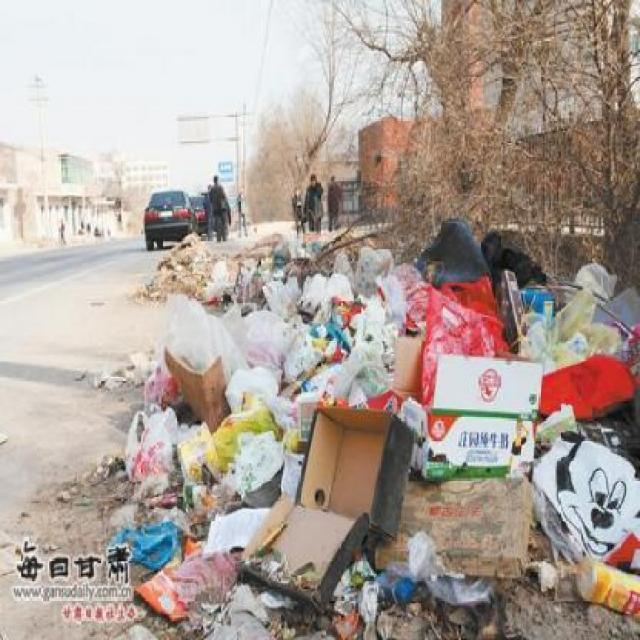garbage: (152, 237, 638, 638)
